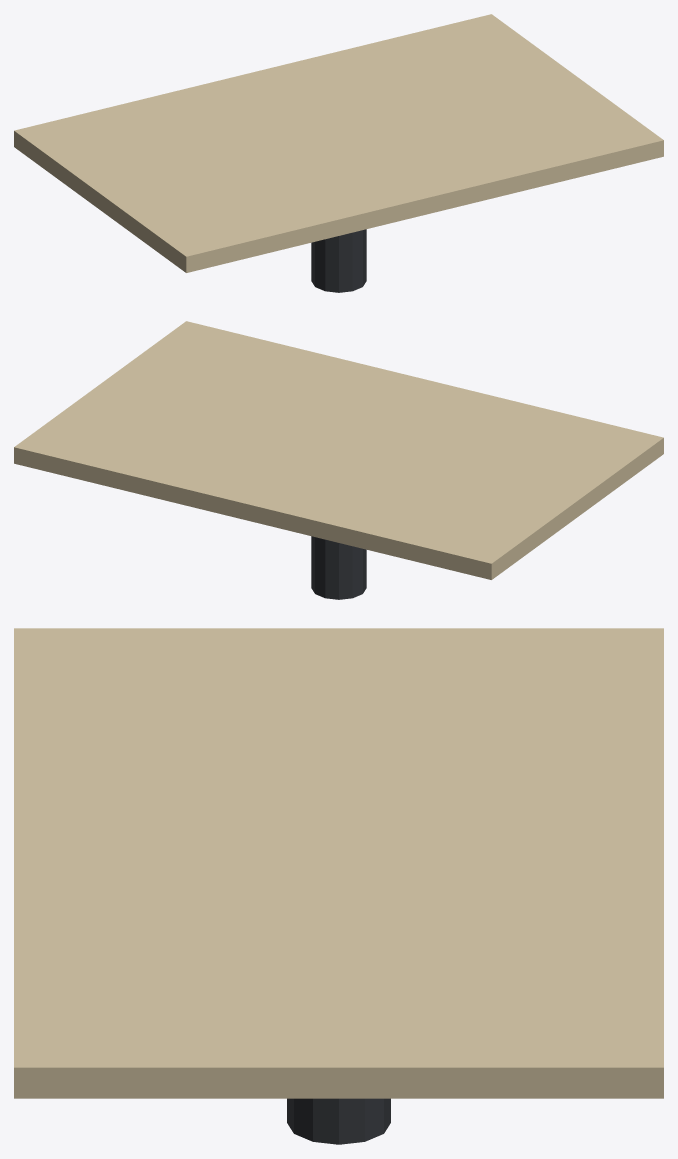
The model's file is tatami_low_table_4.glb.
The picture shows the model from 3 angles, top to bottom: view 1: azimuth 30°, elevation 25°; view 2: azimuth 150°, elevation 25°; view 3: azimuth 270°, elevation 25°; orthographic projection. The views are drawn at different scales.
Bounding box in the file's own units: 1.22 × 0.3556 × 0.762.
